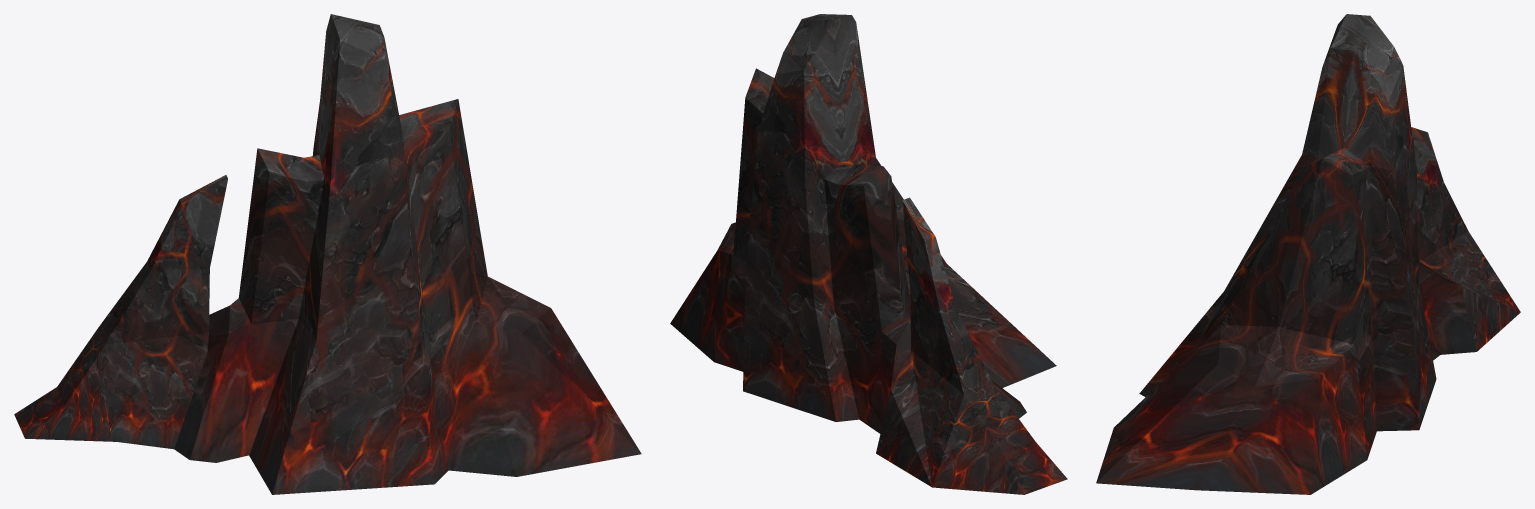
The model's file is 10504_LavaStone12.FBX.
3 renders of one model, left to right at view 1: azimuth 30°, elevation 25°; view 2: azimuth 150°, elevation 25°; view 3: azimuth 270°, elevation 25°, orthographic. The views are drawn at different scales.
Visible parts, largest first — view 1: 10504_LavaStone12; view 2: 10504_LavaStone12; view 3: 10504_LavaStone12.
Part boxes in pixels (x1,y1,x2,y2): 10504_LavaStone12: (14,14,641,494); 10504_LavaStone12: (670,14,1067,494); 10504_LavaStone12: (1096,14,1520,494).
Size of the model in its own units: 1113 by 865 by 868.
